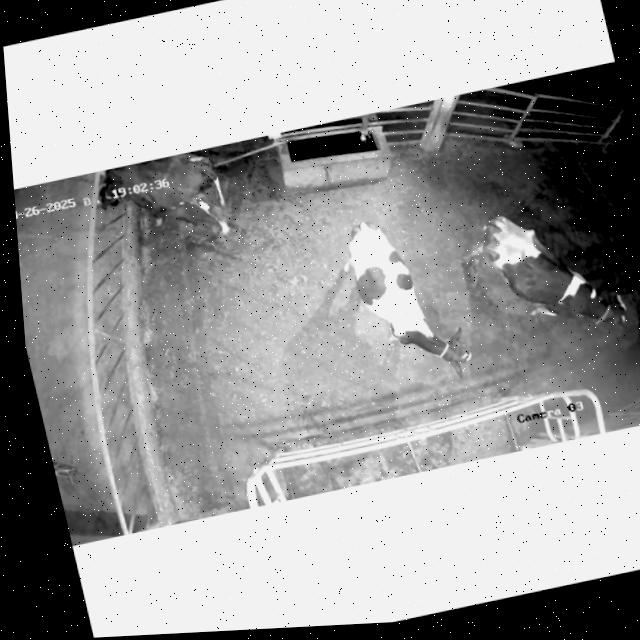stand: (453, 169, 640, 380), (325, 199, 485, 400)
